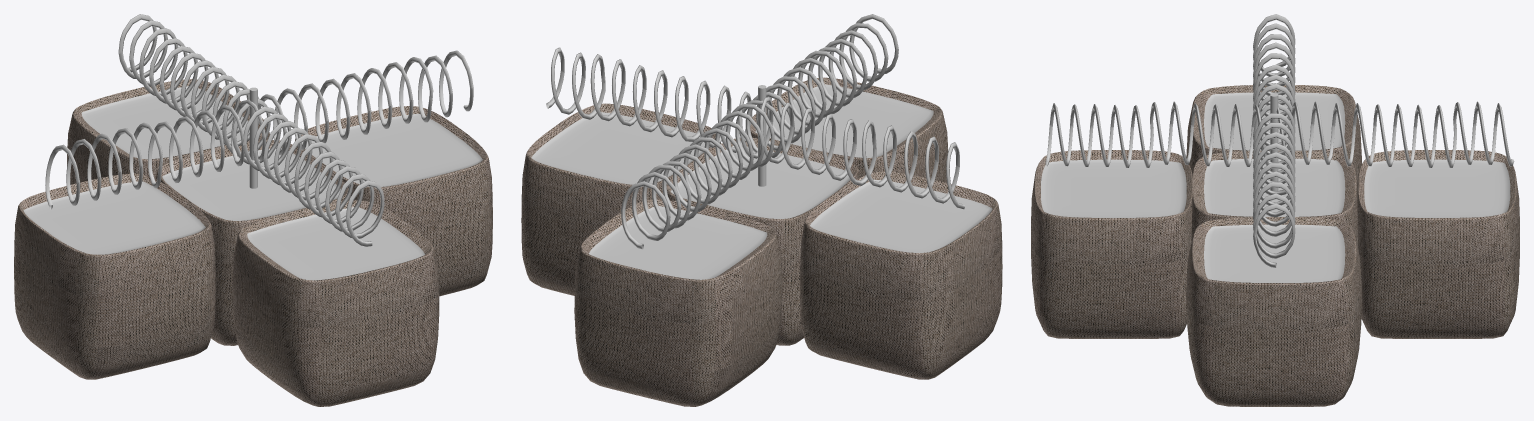
Rendered from CROSS_FENCE.fbx.
The picture shows the model from 3 angles, left to right: view 1: azimuth 30°, elevation 25°; view 2: azimuth 150°, elevation 25°; view 3: azimuth 270°, elevation 25°; orthographic projection. The views are drawn at different scales.
Visible parts, largest first — view 1: CROSS_FENCE_GRP2; view 2: CROSS_FENCE_GRP2; view 3: CROSS_FENCE_GRP2.
Part boxes in pixels (x1=…): CROSS_FENCE_GRP2: x1=14, y1=14, x2=492, y2=406; CROSS_FENCE_GRP2: x1=521, y1=14, x2=1002, y2=406; CROSS_FENCE_GRP2: x1=1031, y1=14, x2=1519, y2=406.
Bounding box in the file's own units: 12.3 × 6.2 × 12.5.
